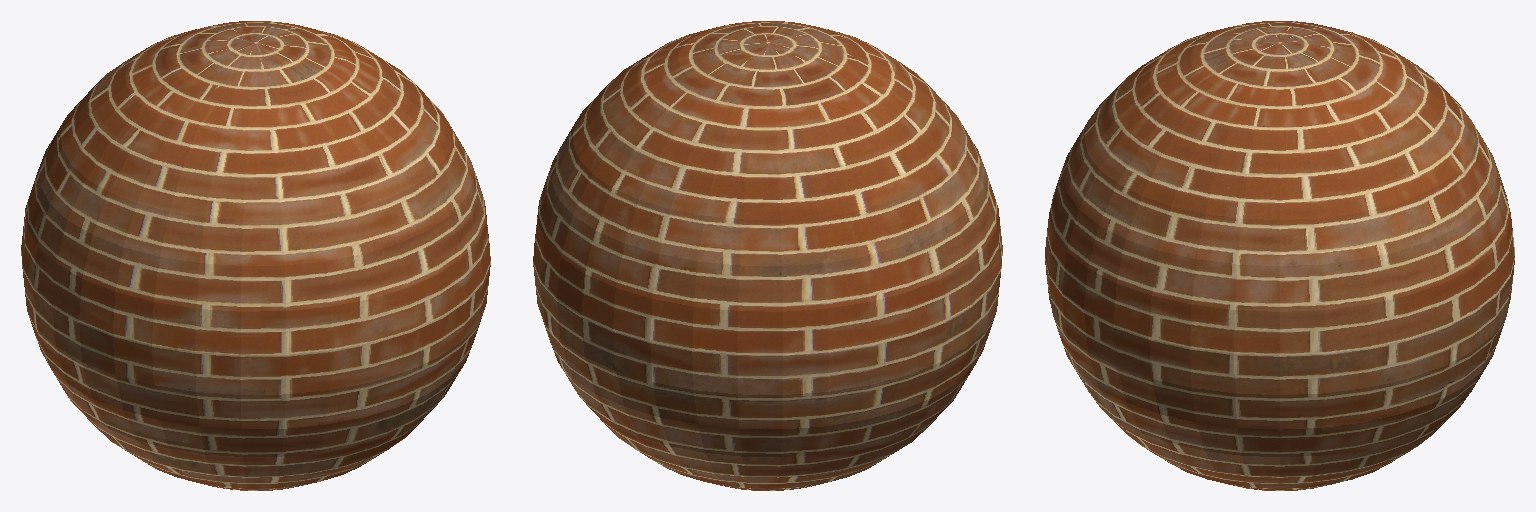
3 renders of one model, left to right at view 1: azimuth 30°, elevation 25°; view 2: azimuth 150°, elevation 25°; view 3: azimuth 270°, elevation 25°, orthographic.
Visible parts, largest first — view 1: Sphere; view 2: Sphere; view 3: Sphere.
Boxes of the visible parts, box(x1,y1,x2,y2) form: Sphere: box(21, 21, 490, 490); Sphere: box(533, 21, 1002, 490); Sphere: box(1045, 21, 1514, 490).
Size of the model in its own units: 2 by 2 by 2.
Materials: 1 (1 with a texture image).